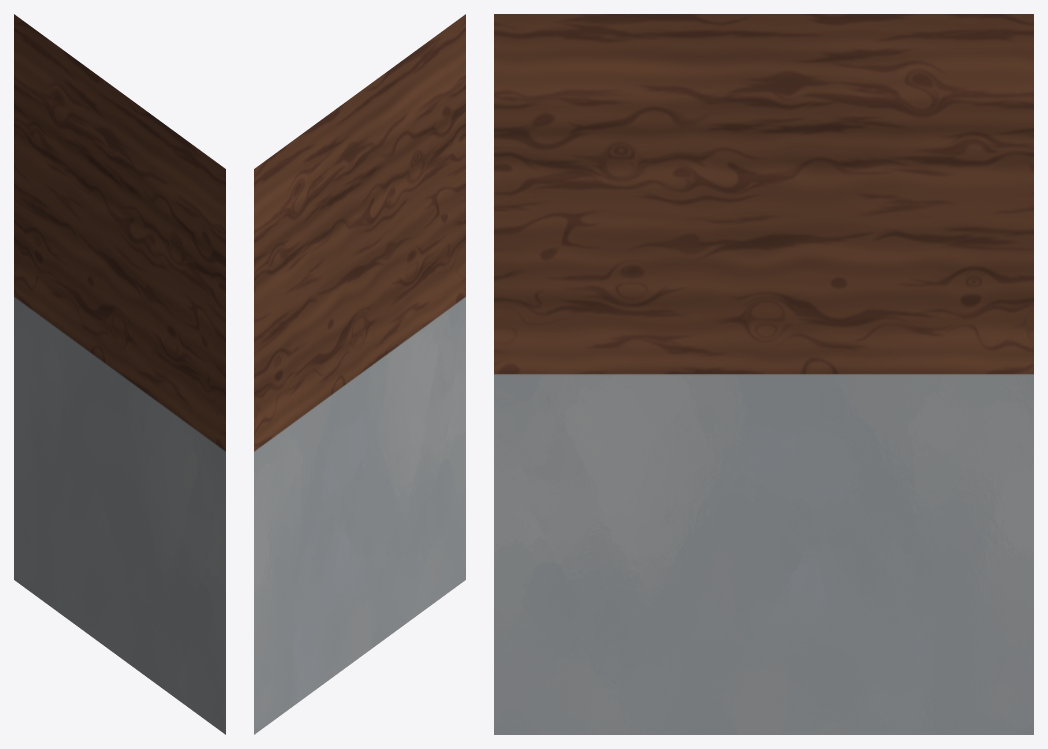
The model's file is SM_Poster.fbx.
3 renders of one model, left to right at view 1: azimuth 30°, elevation 25°; view 2: azimuth 150°, elevation 25°; view 3: azimuth 270°, elevation 25°, orthographic. The views are drawn at different scales.
Visible parts, largest first — view 1: SM_Poster; view 2: SM_Poster; view 3: SM_Poster.
Part boxes in pixels (x1=…): SM_Poster: x1=14, y1=14, x2=225, y2=734; SM_Poster: x1=254, y1=14, x2=465, y2=734; SM_Poster: x1=494, y1=14, x2=1033, y2=734.
Size of the model in its own units: 1.03e-05 by 140 by 95.
